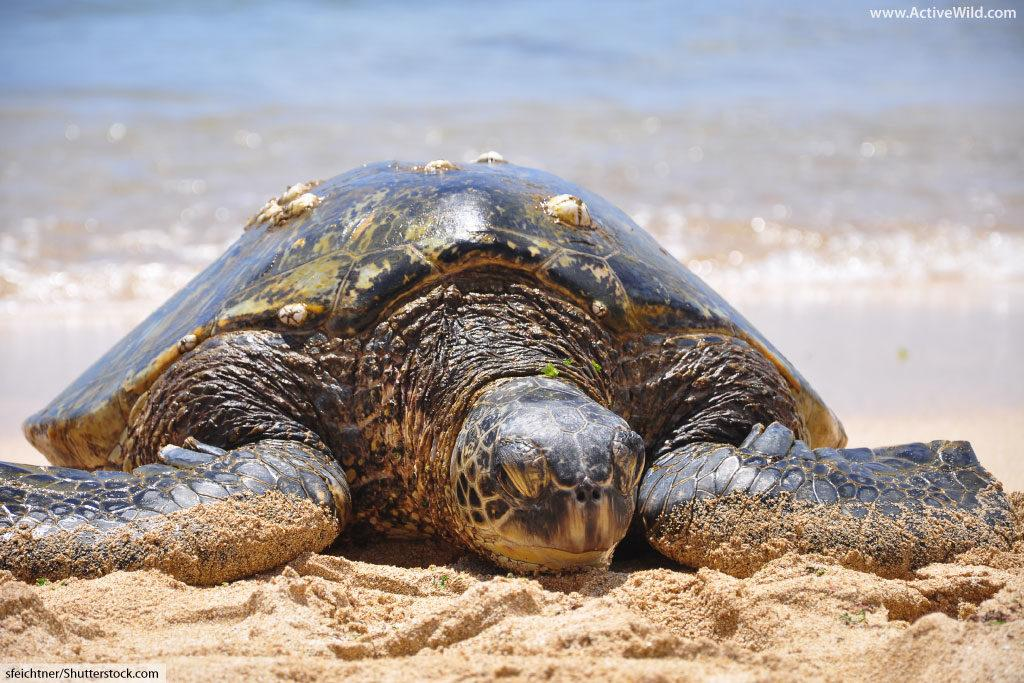turtle: (436, 372, 652, 579)
